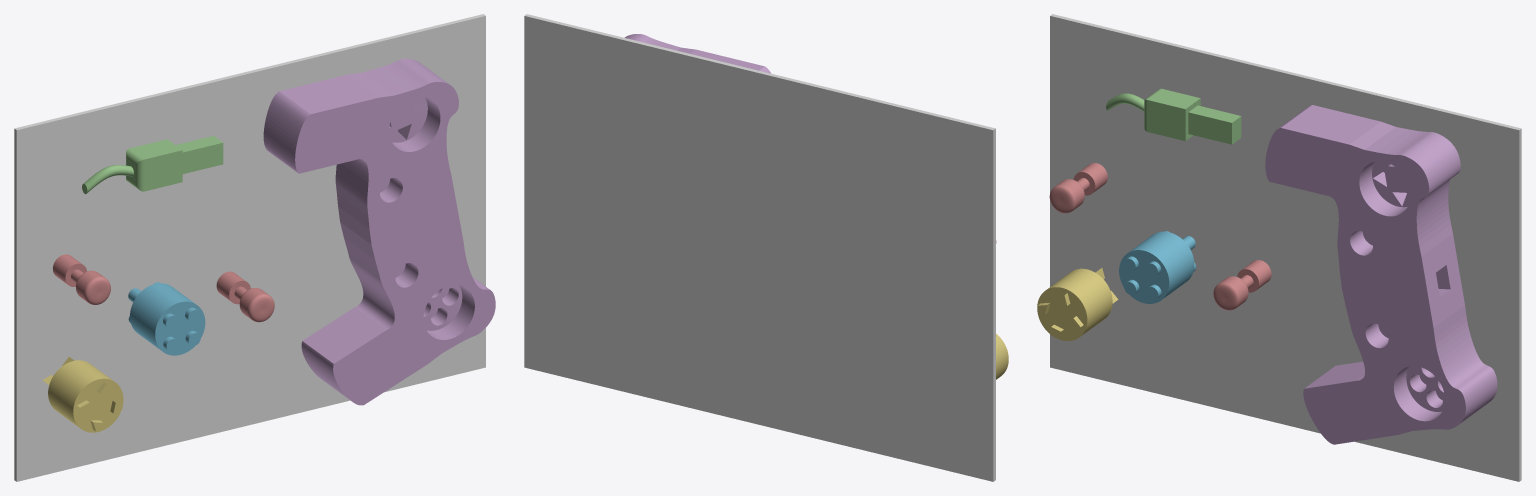
Rendered from pickup_layout.glb.
3 renders of one model, left to right at view 1: azimuth 30°, elevation 25°; view 2: azimuth 150°, elevation 25°; view 3: azimuth 330°, elevation 25°, orthographic.
Visible parts, largest first — view 1: world, 3.obj, 4.obj, 2.obj, 1.obj, 0.obj, 5.obj; view 2: world, 3.obj; view 3: world, 3.obj, 4.obj, 2.obj, 1.obj, 0.obj, 5.obj.
Boxes of the visible parts, x1,y1,x2,y2 form: world: (14,14,485,481); 3.obj: (263,58,495,405); 4.obj: (82,136,223,194); 2.obj: (128,282,205,355); 1.obj: (42,357,123,432); 0.obj: (216,271,274,322); 5.obj: (52,254,110,304); world: (524,14,995,481); 3.obj: (624,34,770,73); world: (1050,14,1521,481); 3.obj: (1265,105,1497,444); 4.obj: (1106,88,1241,144); 2.obj: (1119,231,1196,303); 1.obj: (1037,268,1118,340); 0.obj: (1213,260,1271,310); 5.obj: (1049,163,1107,213).
Size of the model in its own units: 21.49 by 15.39 by 3.2.
